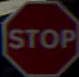Stop: (3, 11, 73, 65)
